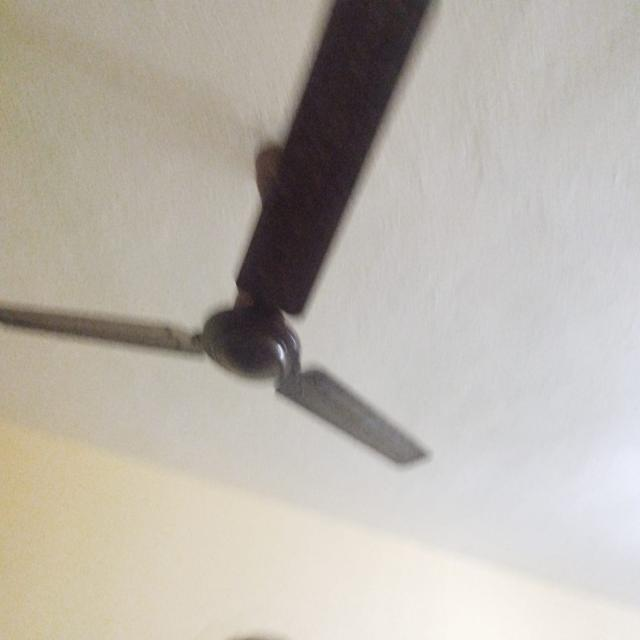fan_off: (1, 4, 436, 467)
